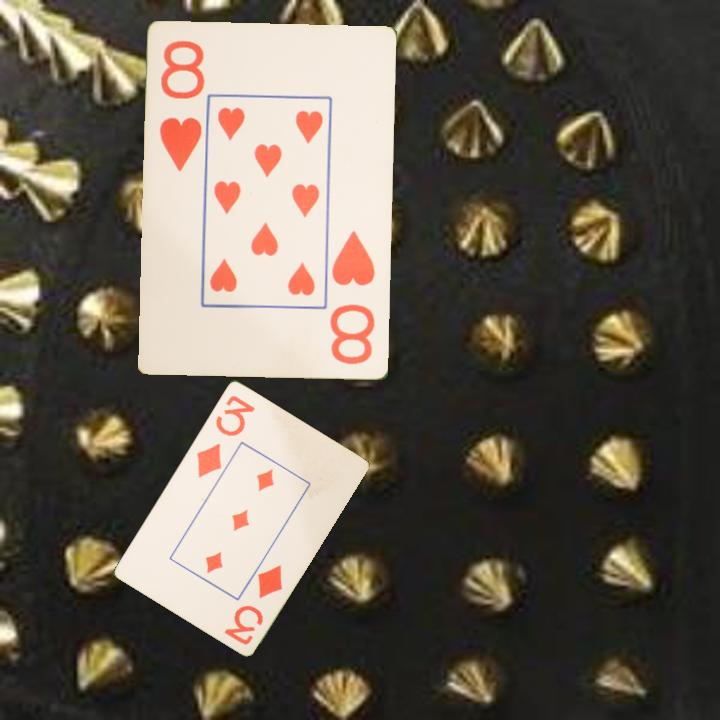3d: (193, 391, 258, 480), (220, 561, 285, 648)
8h: (328, 227, 379, 368), (156, 37, 208, 175)
